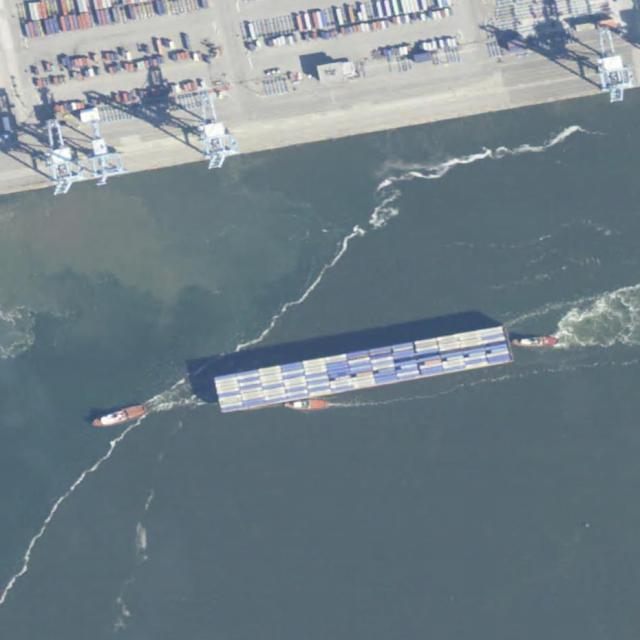Container Ship: (213, 323, 514, 414)
Other Ship: (87, 402, 150, 432), (511, 335, 559, 348), (283, 400, 331, 411)
